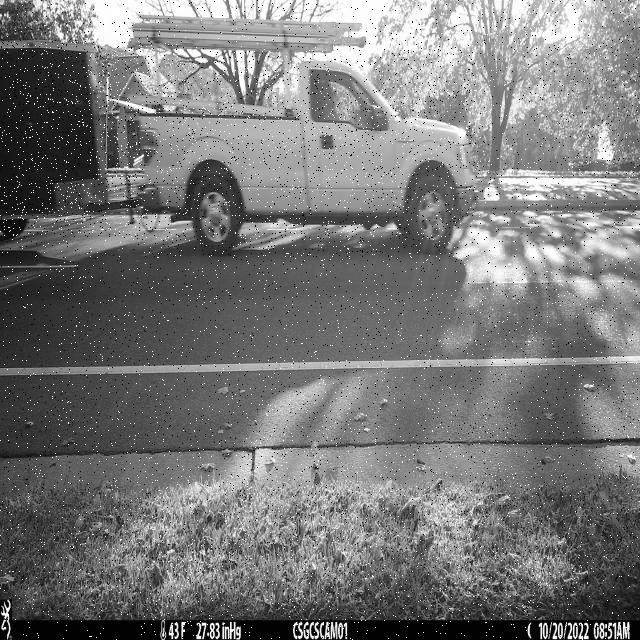Box Truck: (0, 40, 143, 237)
Pickup: (135, 61, 476, 257)
